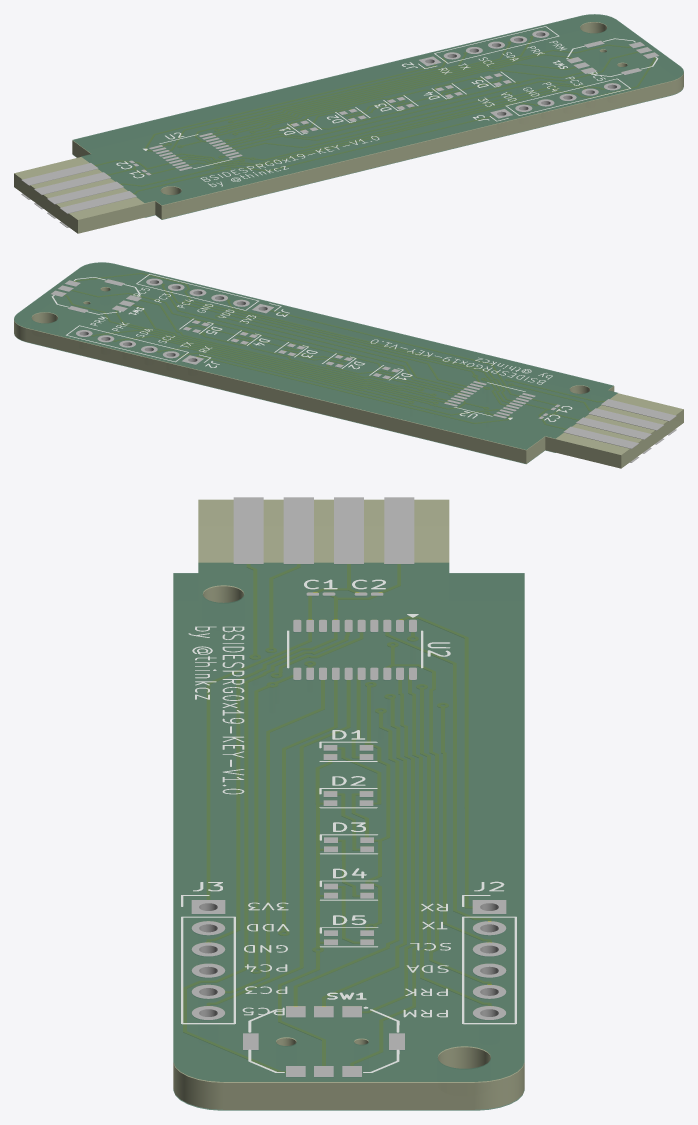
The model's file is bsides-badge-2025-bsides-cz-2025.glb.
3 renders of one model, top to bottom at view 1: azimuth 30°, elevation 25°; view 2: azimuth 150°, elevation 25°; view 3: azimuth 270°, elevation 25°, orthographic. The views are drawn at different scales.
Visible parts, largest first — view 1: =>[0:1:1:7], =>[0:1:1:9], =>[0:1:1:2], =>[0:1:1:5]; view 2: =>[0:1:1:7], =>[0:1:1:9], =>[0:1:1:2], =>[0:1:1:5]; view 3: =>[0:1:1:7], =>[0:1:1:9], =>[0:1:1:2], =>[0:1:1:5].
Part boxes in pixels (bbox=[...]): =>[0:1:1:7]: bbox=[72, 14, 683, 219]; =>[0:1:1:9]: bbox=[14, 15, 683, 233]; =>[0:1:1:2]: bbox=[21, 30, 658, 227]; =>[0:1:1:5]: bbox=[116, 26, 658, 186]; =>[0:1:1:7]: bbox=[14, 262, 617, 464]; =>[0:1:1:9]: bbox=[14, 263, 683, 468]; =>[0:1:1:2]: bbox=[51, 273, 676, 462]; =>[0:1:1:5]: bbox=[51, 274, 572, 421]; =>[0:1:1:7]: bbox=[173, 562, 524, 1110]; =>[0:1:1:9]: bbox=[173, 499, 524, 1109]; =>[0:1:1:2]: bbox=[183, 497, 506, 1077]; =>[0:1:1:5]: bbox=[181, 579, 516, 1072].
Bounding box in the file's own units: 0.07 × 0.00166 × 0.0178.
4 materials, 4 textured.
